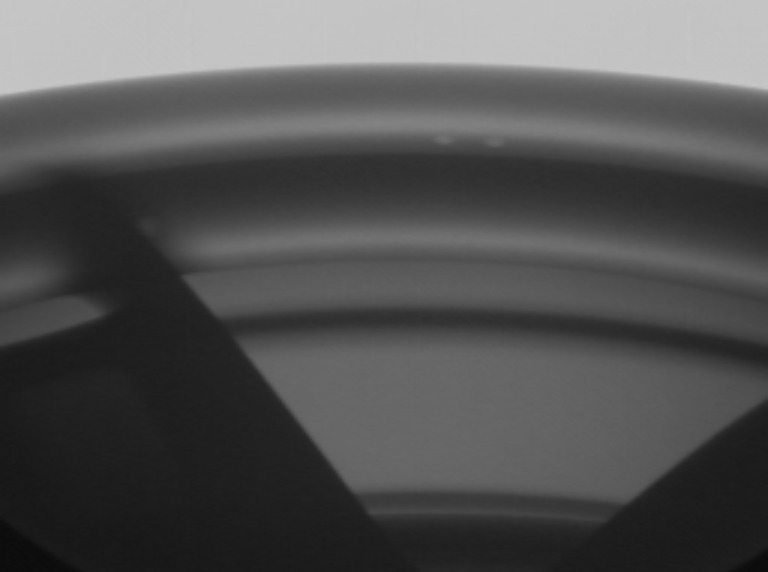defect: (477, 127, 516, 154)
